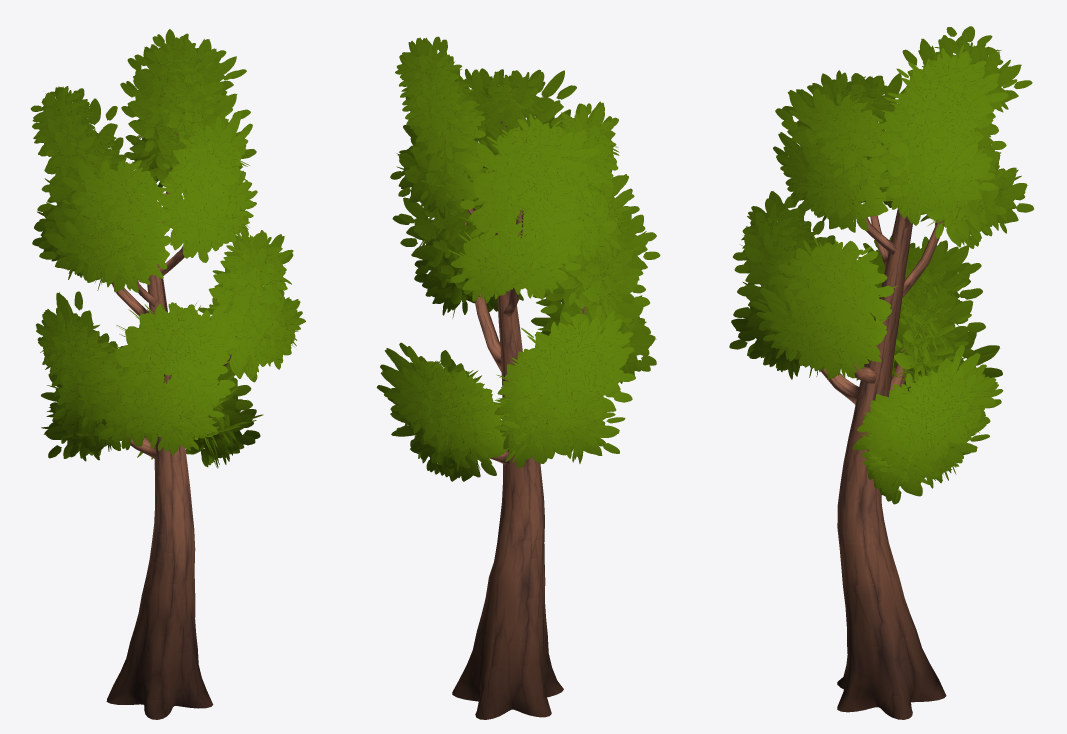
The model's file is CommonTree_3.gltf.
3 renders of one model, left to right at view 1: azimuth 30°, elevation 25°; view 2: azimuth 150°, elevation 25°; view 3: azimuth 270°, elevation 25°, orthographic. The views are drawn at different scales.
Parts seen in each view (by area): view 1: CommonTree_3; view 2: CommonTree_3; view 3: CommonTree_3.
Part boxes in pixels (x1,y1,x2,y2): CommonTree_3: [30, 29, 305, 719]; CommonTree_3: [376, 36, 660, 719]; CommonTree_3: [729, 26, 1033, 719].
Size of the model in its own units: 4.06 by 9.43 by 4.24.
Materials: 2 (2 with a texture image).
